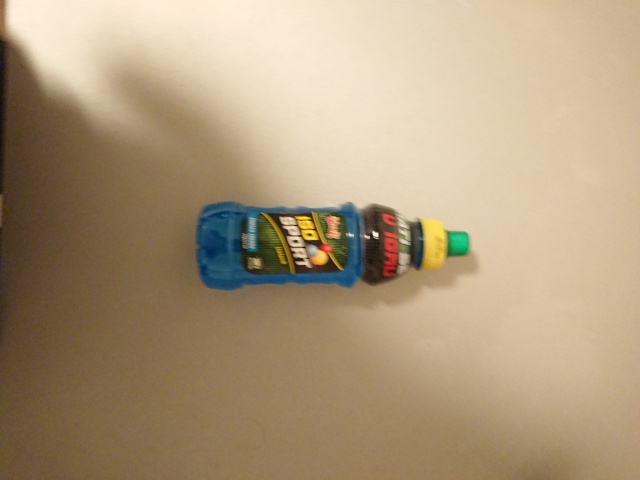Vindi Iso Sport Forest Strawberries 500mL: (194, 199, 471, 292)
